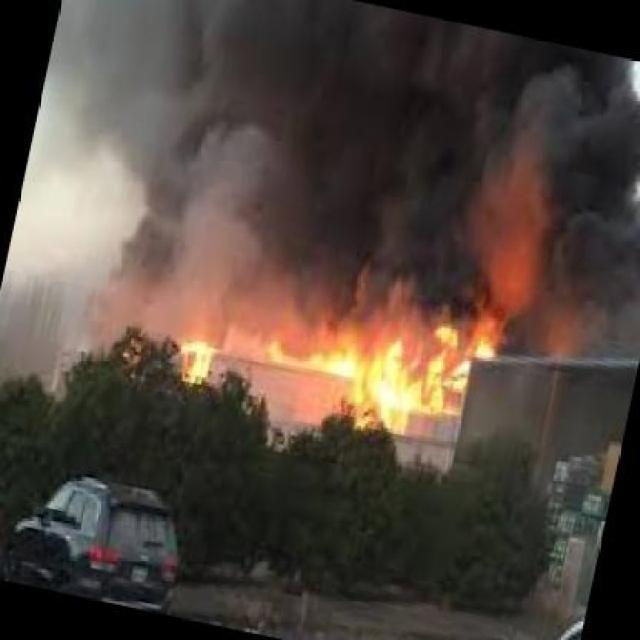Fire: (165, 305, 483, 425)
Smoke: (49, 4, 640, 294), (480, 288, 640, 366)
